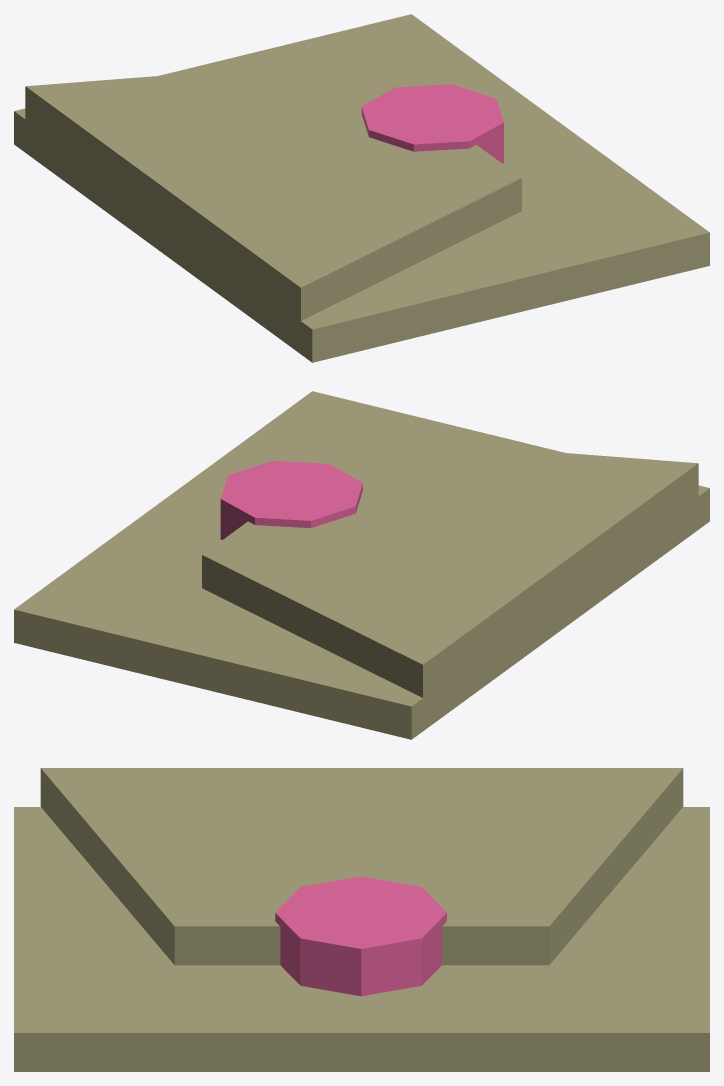
The model's file is Mail.fbx.
The picture shows the model from 3 angles, top to bottom: view 1: azimuth 30°, elevation 25°; view 2: azimuth 150°, elevation 25°; view 3: azimuth 270°, elevation 25°; orthographic projection. The views are drawn at different scales.
Visible parts, largest first — view 1: Resource 2 MAIL; view 2: Resource 2 MAIL; view 3: Resource 2 MAIL.
Boxes of the visible parts, x1,y1,x2,y2 form: Resource 2 MAIL: (14,14,709,362); Resource 2 MAIL: (14,391,709,739); Resource 2 MAIL: (14,768,709,1071).
Size of the model in its own units: 100 by 17.75 by 130.
